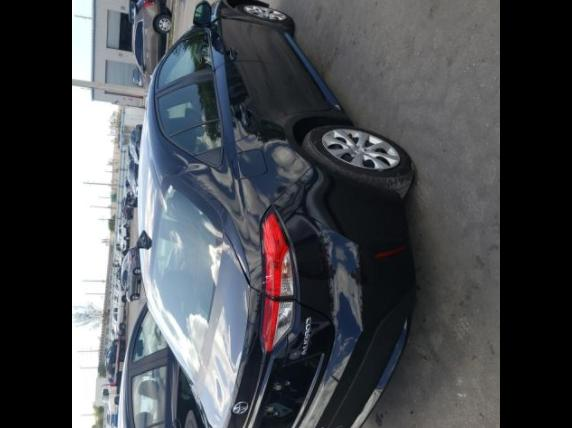Dent: (168, 160, 192, 175)
Scratch: (160, 171, 173, 175)
